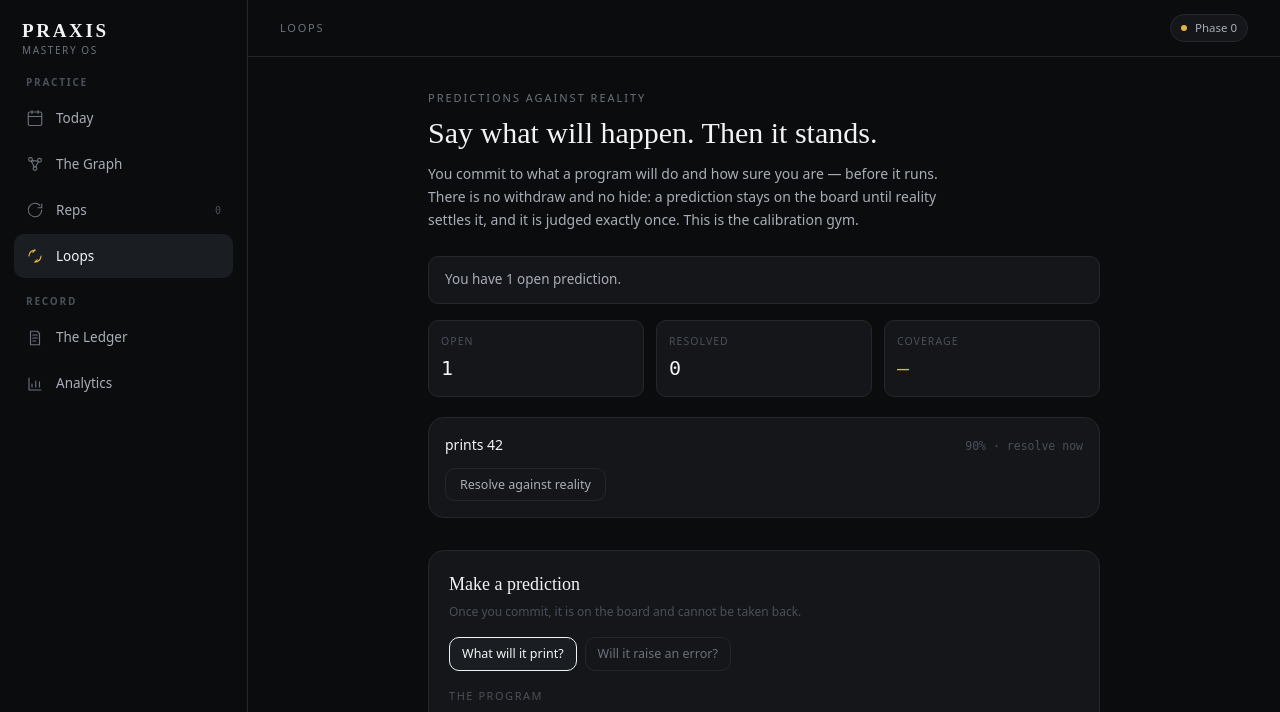
Scenario: LoopsPage › keeps the loop open and marks nothing when the sandbox is down
Expected: the text "prints 42" is shown, [445,434,503,456]
Step 1. Click the button "Resolve against reality" → (526, 484), box [445,468,606,501]
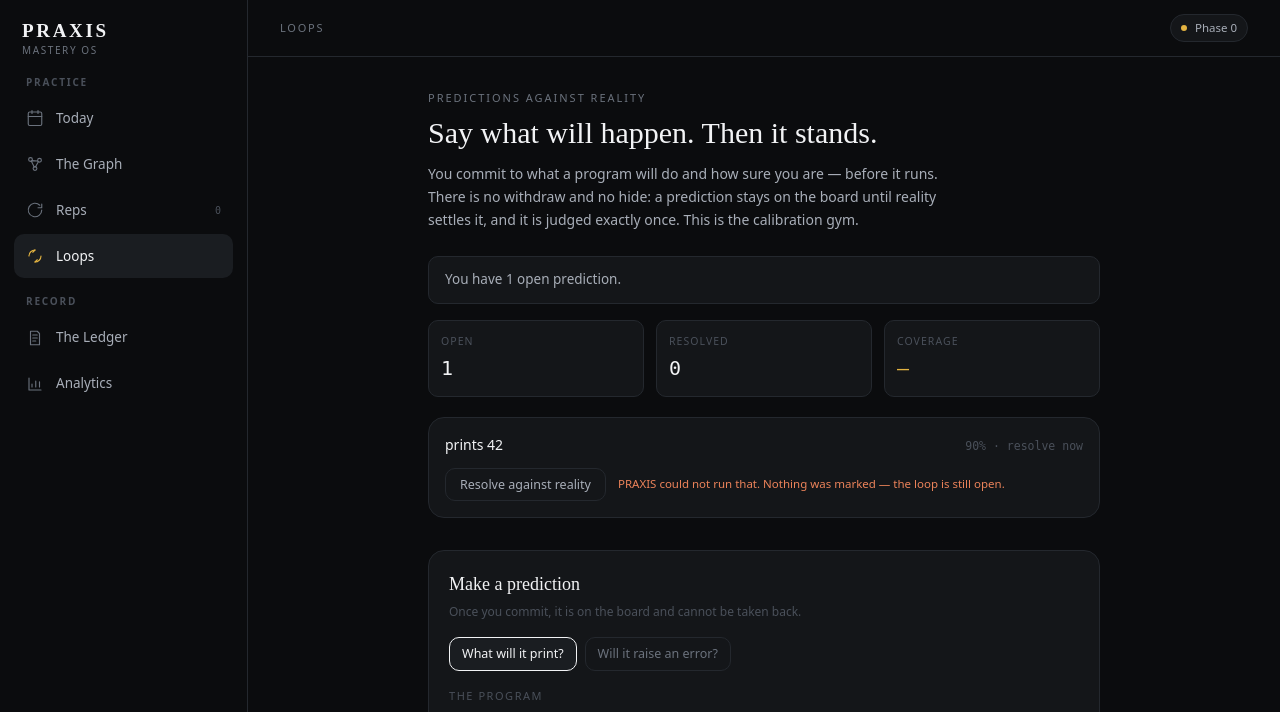
Now the text "PRAXIS could not run that. Nothing was marked — the loop is still open." is shown, box [618,475,1005,493]
